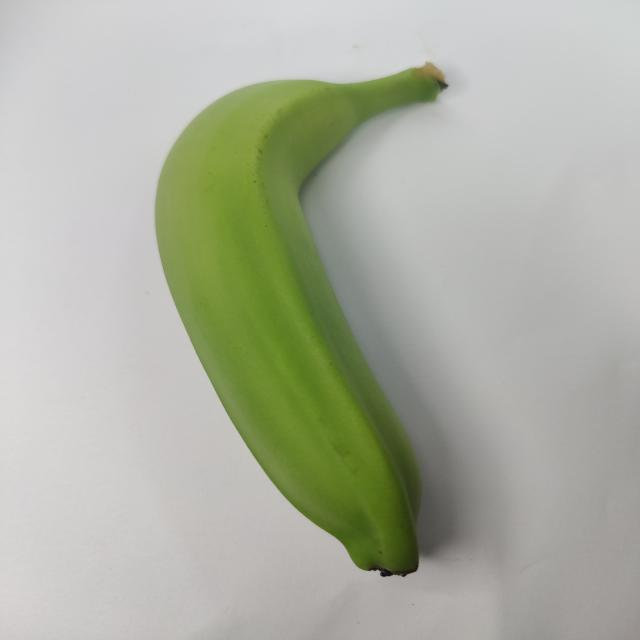raw: (83, 36, 539, 607)
